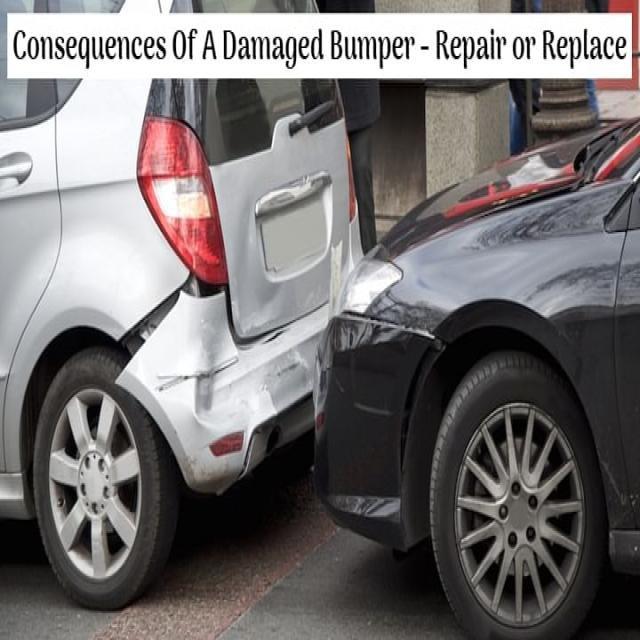dent: (188, 193, 284, 435)
misalignment: (116, 271, 229, 382), (399, 335, 447, 472)
scratch: (152, 352, 241, 394), (272, 360, 303, 381)
tear: (263, 330, 286, 345)
